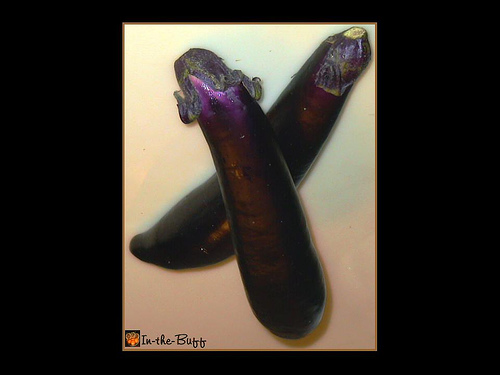eggplant: (167, 42, 336, 344)
